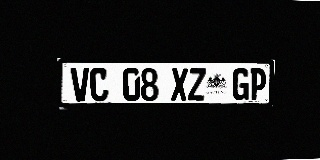0: (122, 68, 140, 101)
8: (141, 68, 158, 101)
C: (90, 68, 108, 102)
G: (232, 68, 250, 100)
P: (249, 68, 267, 100)
V: (70, 68, 90, 102)
X: (171, 68, 188, 101)
Z: (188, 68, 206, 101)
